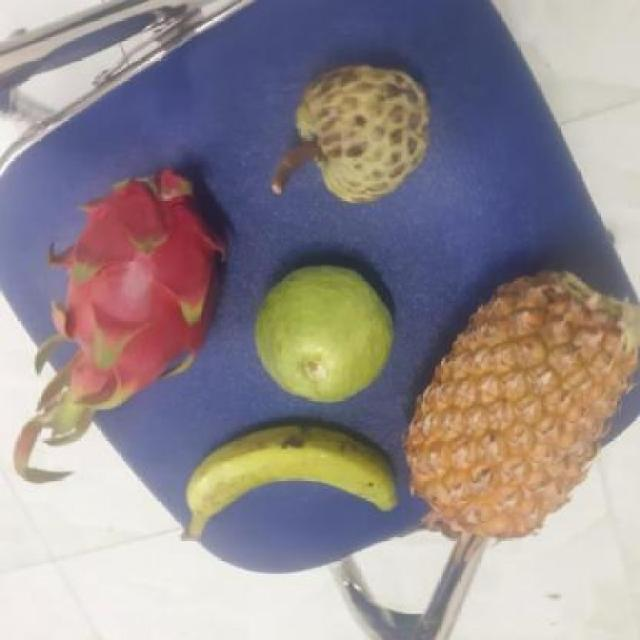banana: (188, 420, 415, 566)
dragon fruit: (51, 168, 238, 410)
guava: (253, 265, 404, 401)
pineapple: (410, 267, 639, 531)
sugar apple: (286, 65, 442, 200)
